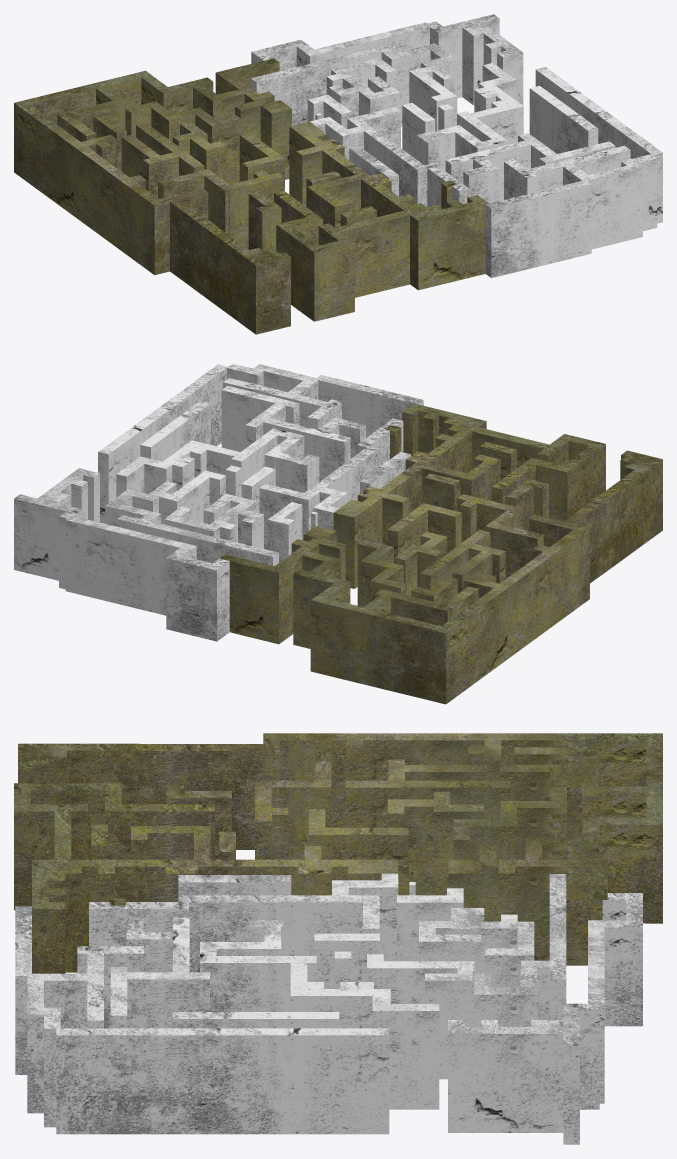
Rendered from Maze2.fbx.
The picture shows the model from 3 angles, top to bottom: view 1: azimuth 30°, elevation 25°; view 2: azimuth 150°, elevation 25°; view 3: azimuth 270°, elevation 25°; orthographic projection. The views are drawn at different scales.
Parts seen in each view (by area): view 1: Cube.143, Cube.079; view 2: Cube.143, Cube.079; view 3: Cube.079, Cube.143.
Boxes of the visible parts, x1,y1,x2,y2 form: Cube.143: (14, 58, 488, 334); Cube.079: (250, 14, 662, 277); Cube.143: (220, 403, 662, 704); Cube.079: (14, 363, 423, 641); Cube.079: (15, 873, 642, 1144); Cube.143: (14, 733, 662, 973).
Bounding box in the file's own units: 22213 × 3275 × 19485.
2 materials, 2 textured.
